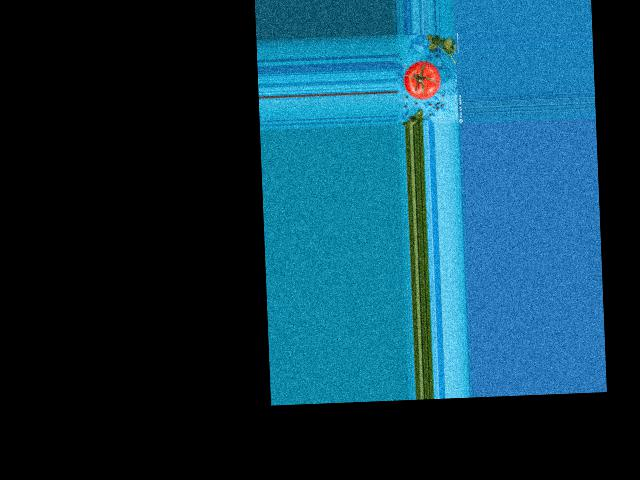tomato: (403, 59, 441, 99)
